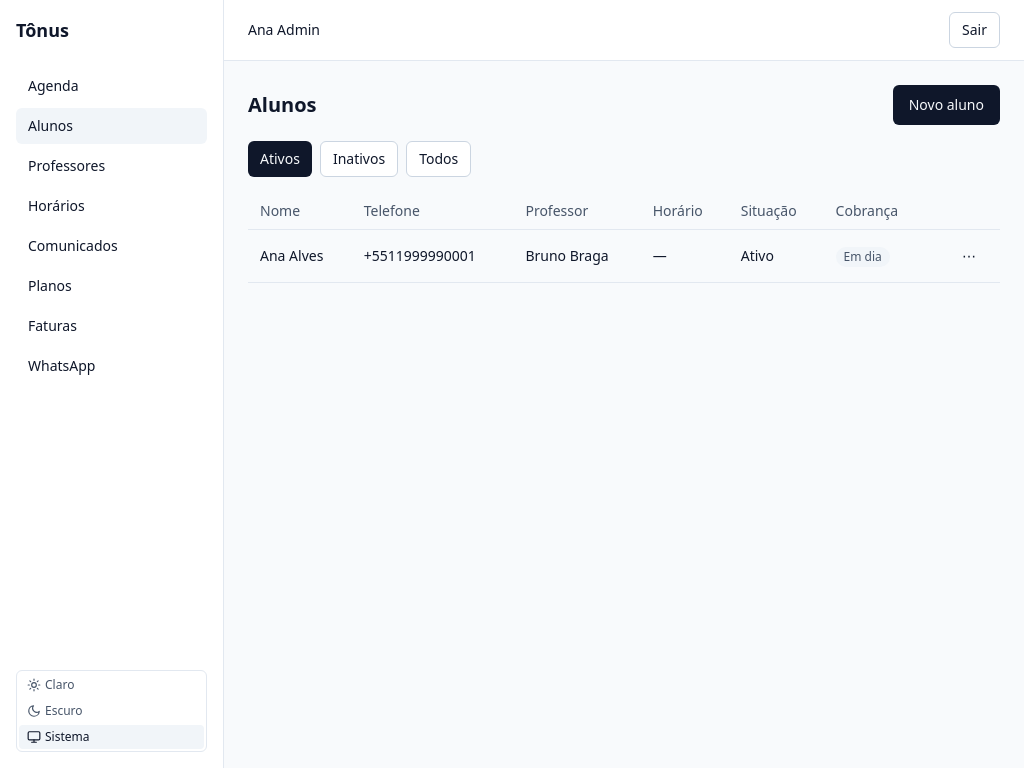
planos do aluno › encerra o plano com confirmação, sem apagar a matrícula, e libera para rematricular
Click the button named "Ações de Ana Alves" at (969,256), box [950,238,988,274]
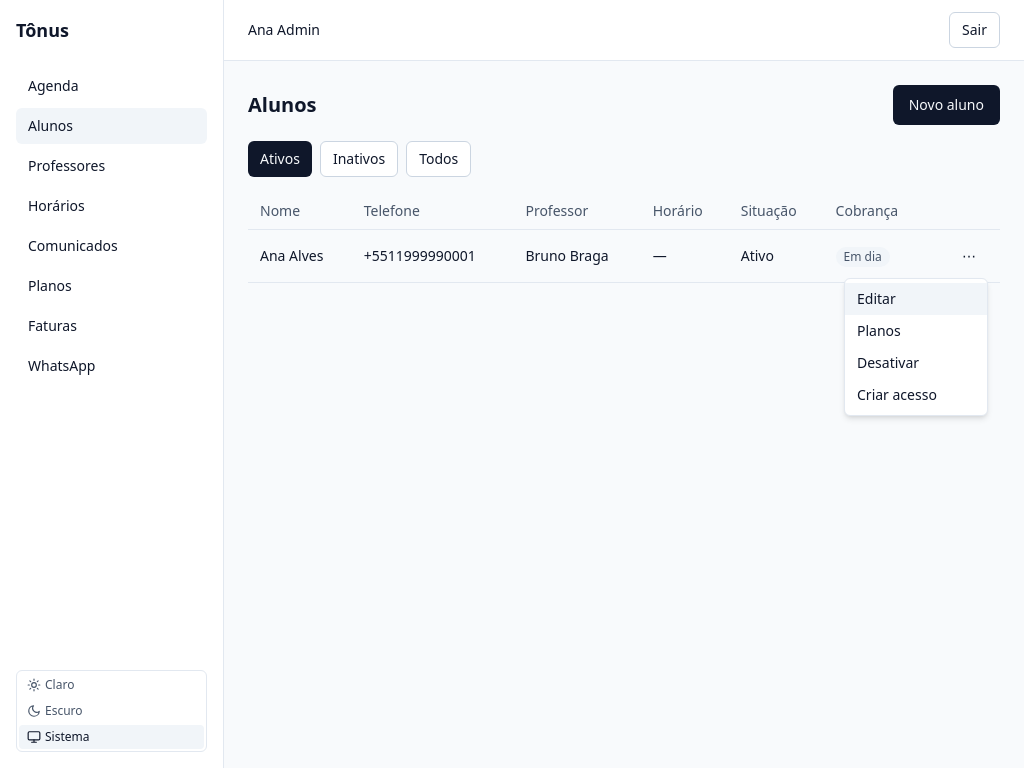
Click the menu item "Planos" at (916,331), box [845,315,987,347]
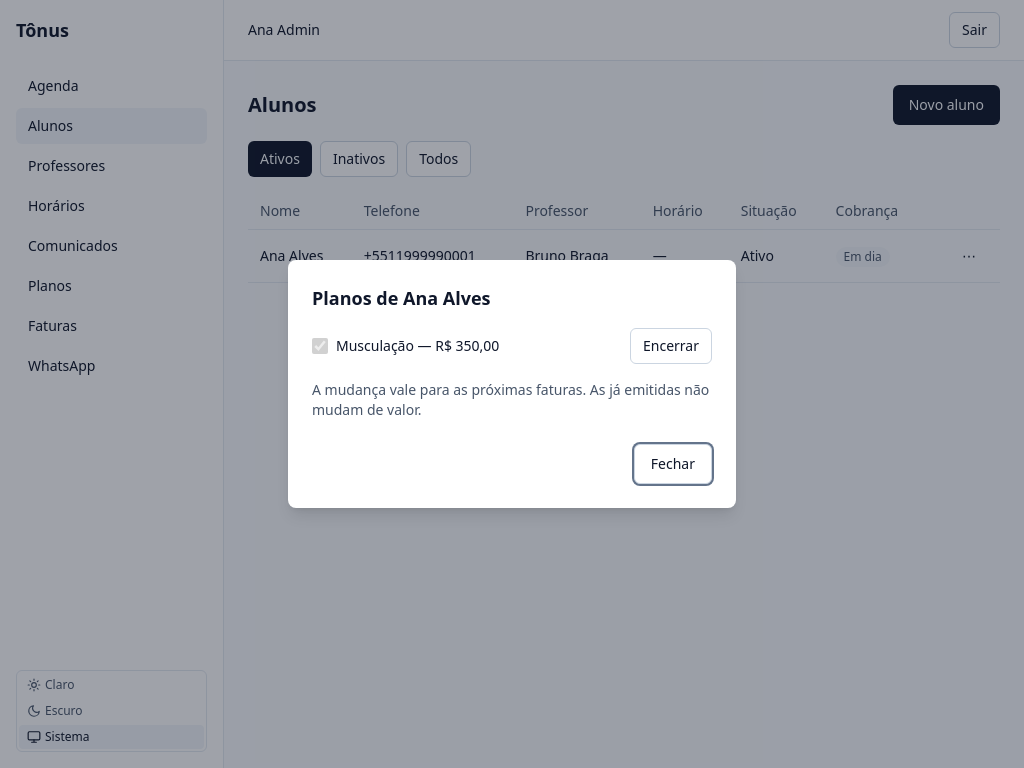
Expected: the checkbox labelled "Musculação — R$ 350,00" is checked, [312,338,328,354]
Expected: the checkbox labelled "Musculação — R$ 350,00" is disabled, [312,338,328,354]
Click the button "Encerrar" at (671,346), box [630,328,712,364]
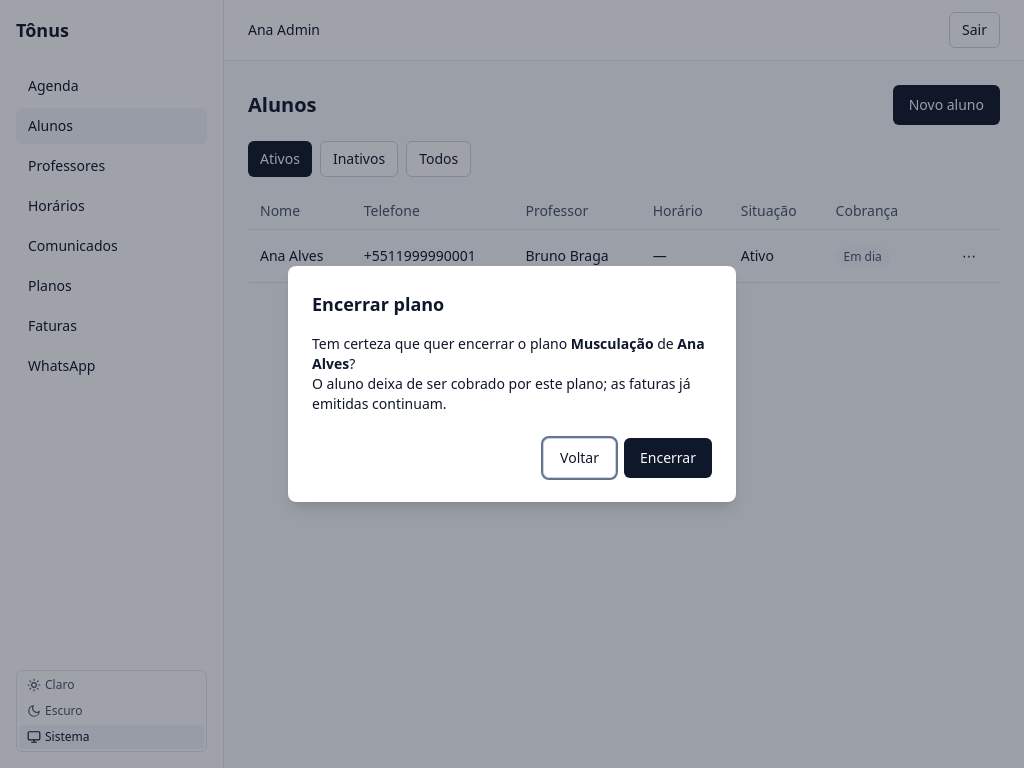
Expected: the text "Tem certeza que quer encerrar" is shown, [312,334,571,353]
Expected: the text "faturas já emitidas continuam" is shown, [312,374,690,413]
Click the button "Encerrar" at (668,458), box [624,438,712,478]
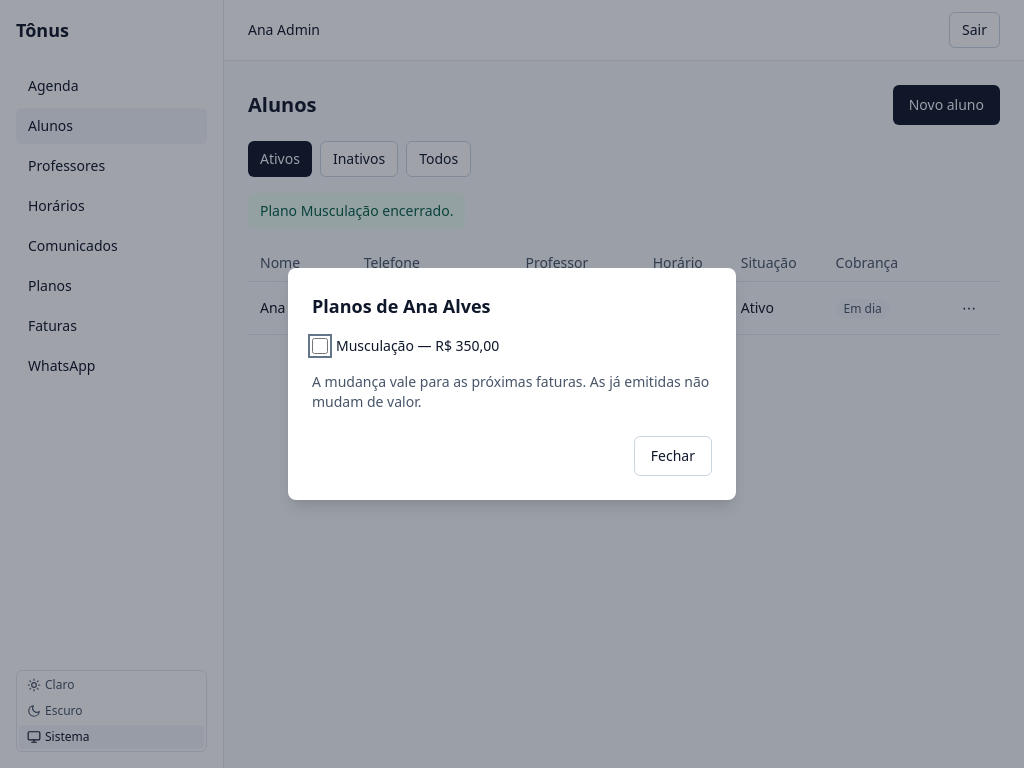
Expected: the checkbox labelled "Musculação — R$ 350,00" is not checked, [312,338,328,354]
Expected: the checkbox labelled "Musculação — R$ 350,00" is enabled, [312,338,328,354]
